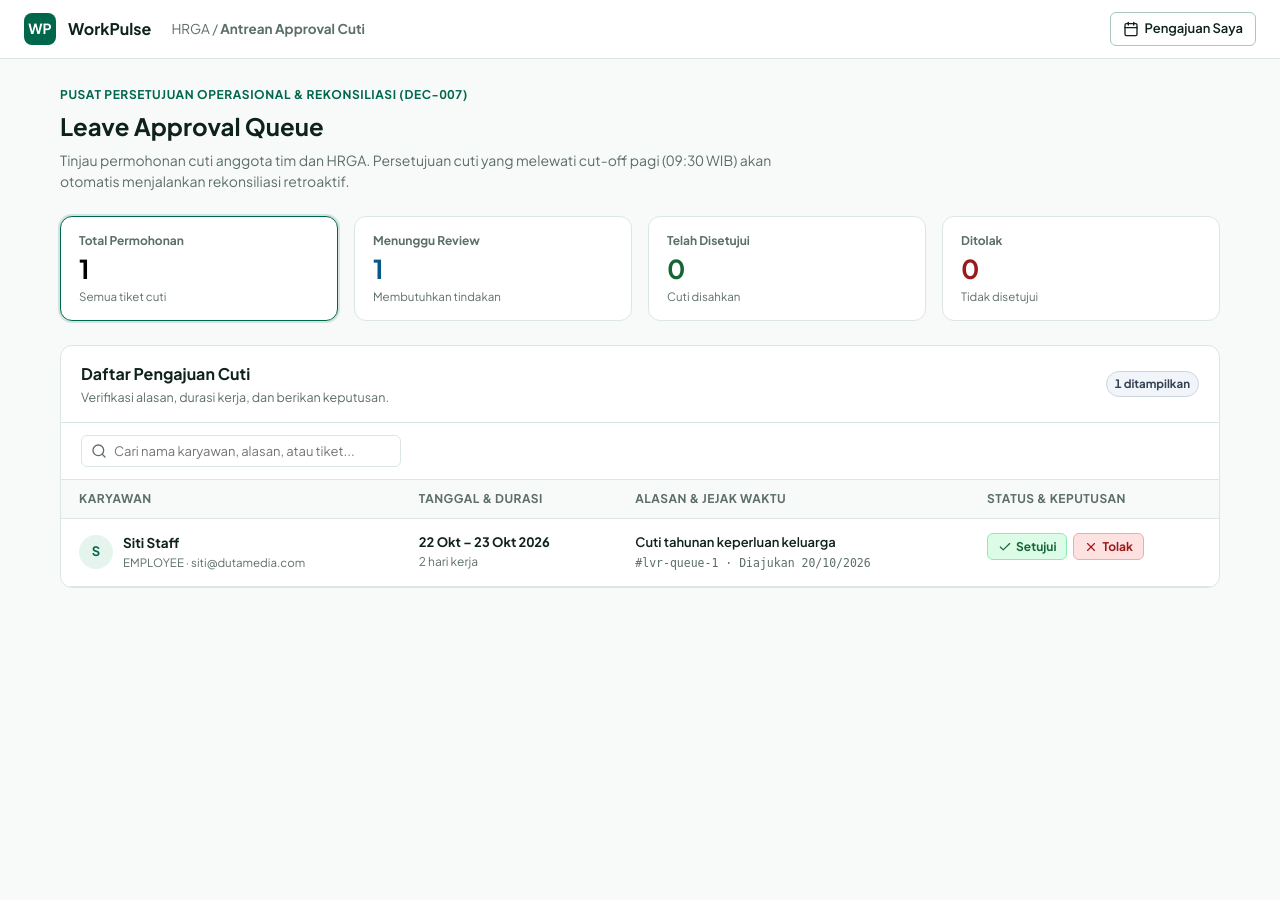
Test: LeaveApprovalQueueView.vue (Prototipe 21 / EP10 - Antrean Approval Cuti HRGA) › opens review modal when clicking Setujui button
The width and height of the screenshot is (1280, 900).
Click the button with class "approve". click: (1027, 547)
box: [987,533,1068,560]
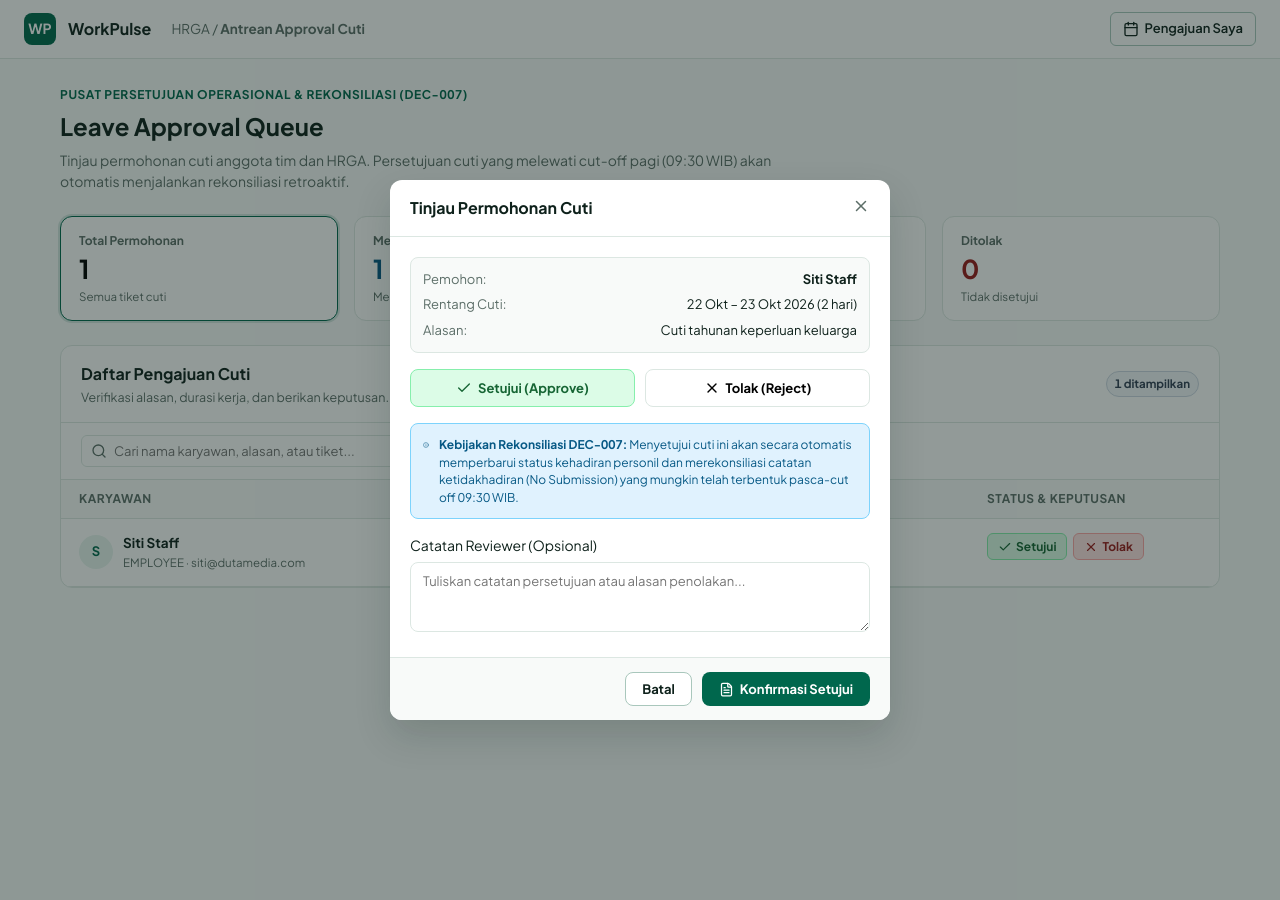
Expected: the text "Tinjau permohonan cuti" is shown, [60,150,771,190]
Result: the element with class "modal-card" is shown at [390,180,890,720]
Result: the text "Kebijakan Rekonsiliasi DEC-007" is shown at [439,438,627,452]
